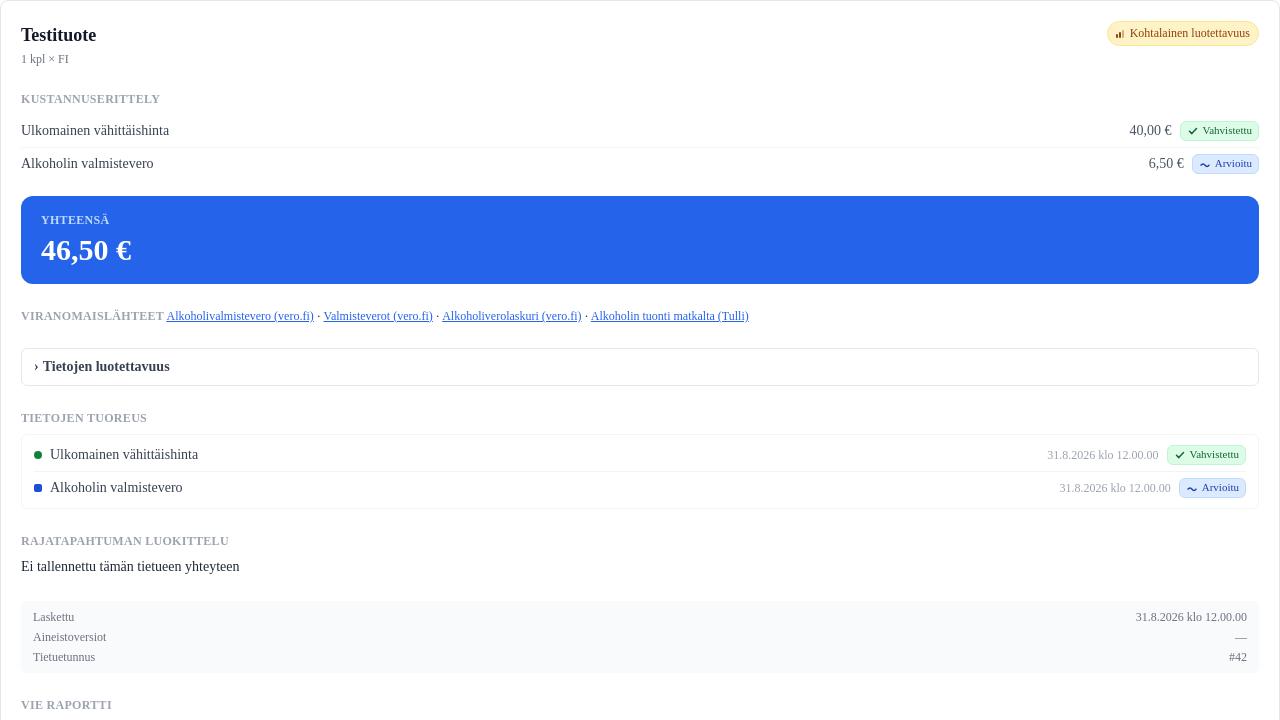
Test: CalculatorResult confidence-breakdown disclosure (hedge-dedup 3.1) › keeps the breakdown behind a collapsed disclosure, reachable in one interaction
Note: One interaction (toggling the summary) reveals the detail.
Click the heading "› Tietojen luotettavuus" at (102, 366), box [34,359,170,374]
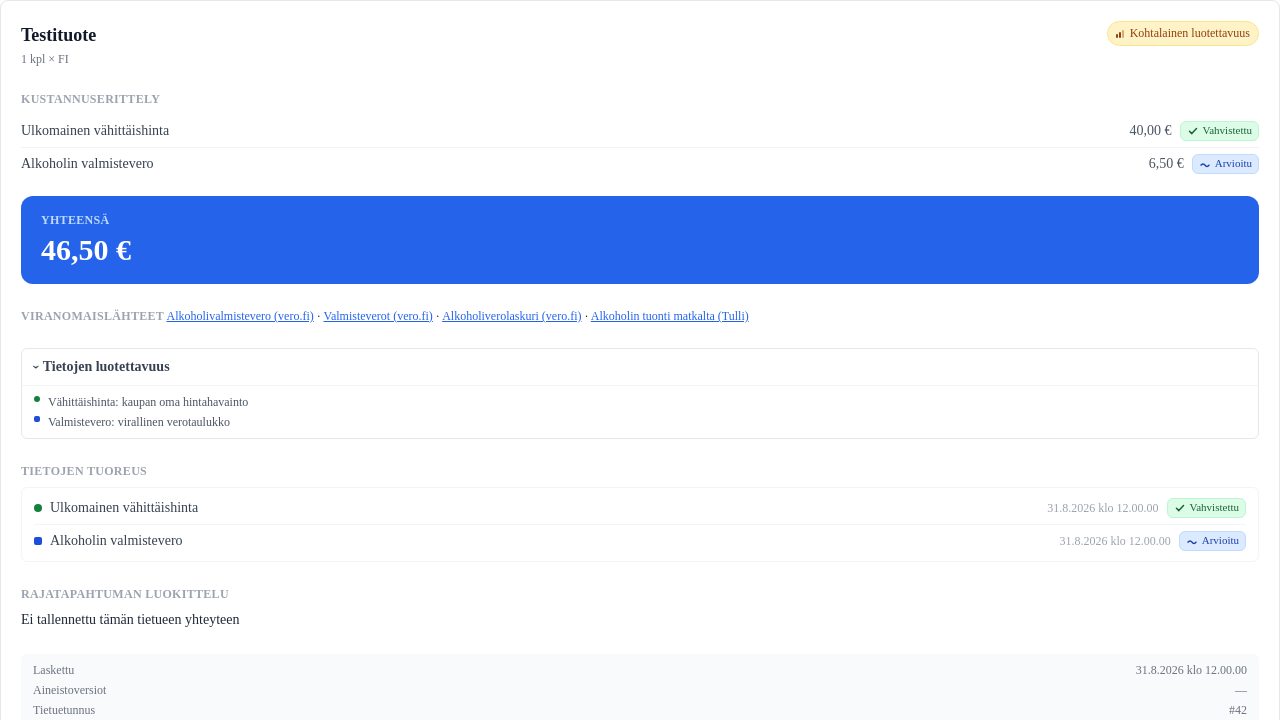
Check: the text "Valmistevero: virallinen verotaulukko" is shown, box [48,414,230,430]
